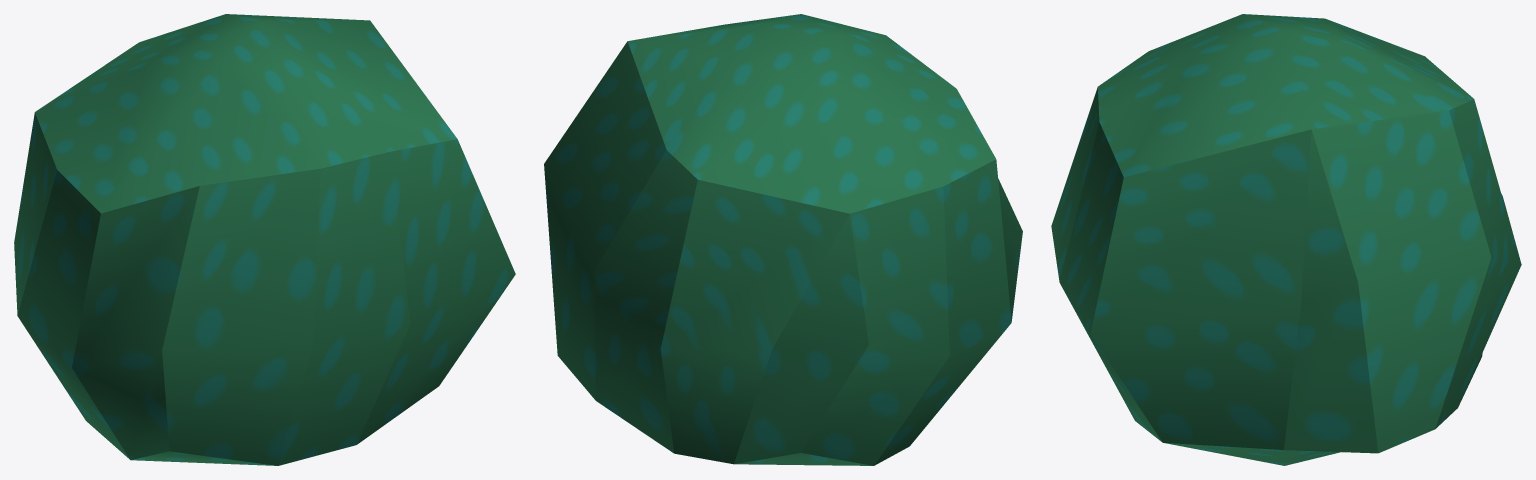
File: Copa1.fbx
The picture shows the model from 3 angles, left to right: view 1: azimuth 30°, elevation 25°; view 2: azimuth 150°, elevation 25°; view 3: azimuth 270°, elevation 25°; orthographic projection. The views are drawn at different scales.
Visible parts, largest first — view 1: Copa_1; view 2: Copa_1; view 3: Copa_1.
Part boxes in pixels (box(x1,y1,x2,y2)): Copa_1: box(14, 14, 515, 465); Copa_1: box(544, 14, 1022, 465); Copa_1: box(1051, 14, 1521, 465).
Size of the model in its own units: 62.36 by 62.13 by 61.64.
Materials: 1 (1 with a texture image).
